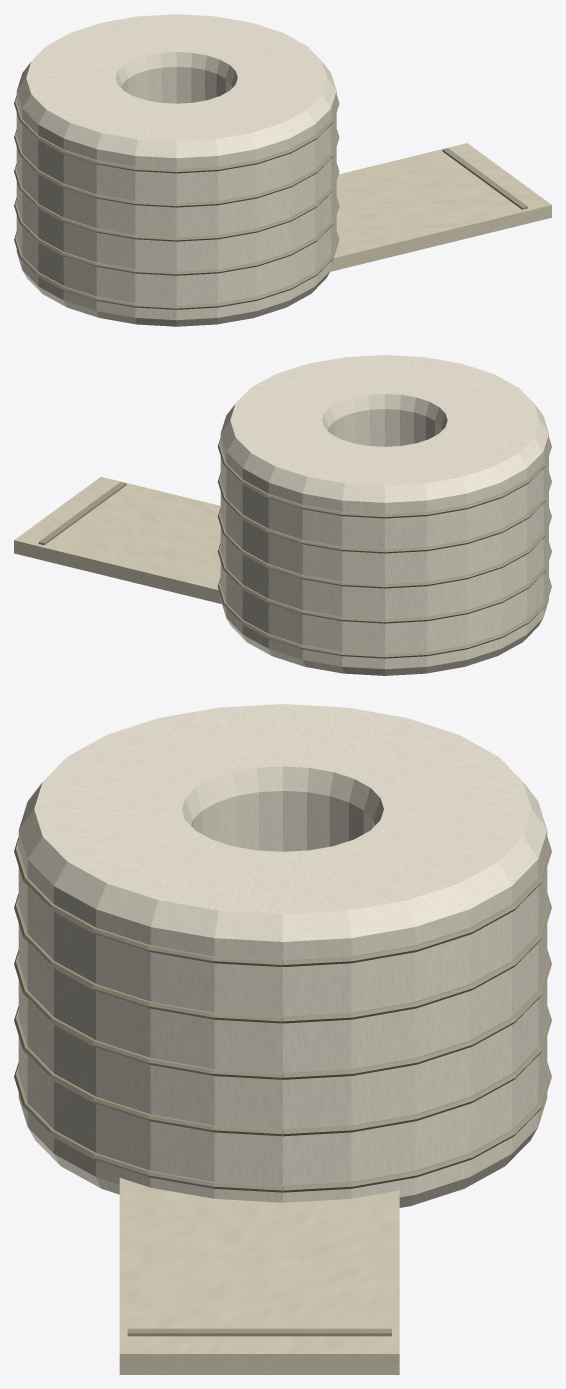
File: bandage.obj
3 views of the same model, one above another, from view 1: azimuth 30°, elevation 25°; view 2: azimuth 150°, elevation 25°; view 3: azimuth 270°, elevation 25° (orthographic). The views are drawn at different scales.
Parts seen in each view (by area): view 1: bandage; view 2: bandage; view 3: bandage.
Boxes of the visible parts, x1=… form: bandage: x1=14, y1=14, x2=551, y2=326; bandage: x1=14, y1=355, x2=551, y2=675; bandage: x1=14, y1=704, x2=551, y2=1374.
Bounding box in the file's own units: 5.73 × 2.15 × 3.46.
1 material, 1 textured.
